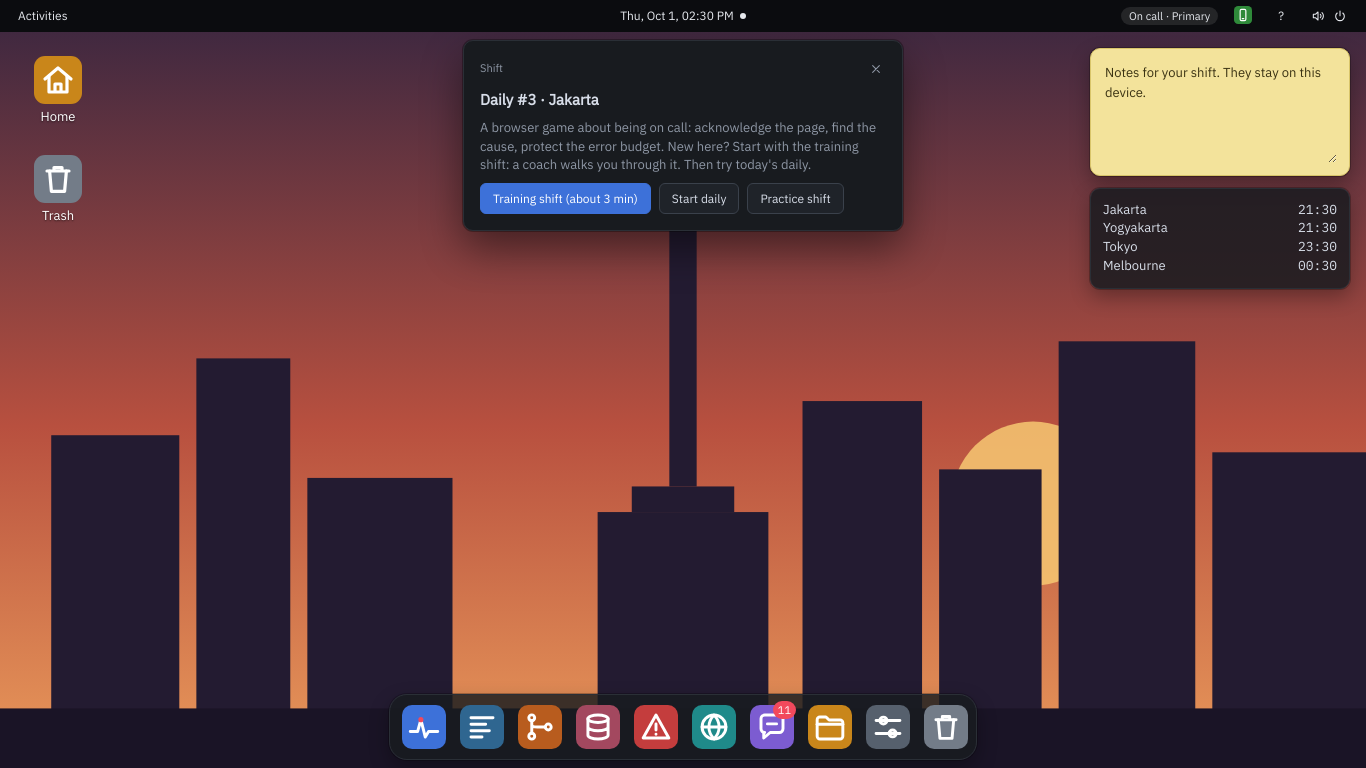
Scenario: Desktop › Start shift opens the Browser, and the page is a critical notification acknowledged with A
Click the button "Practice shift" at x=796, y=199, box [747,183,844,214]
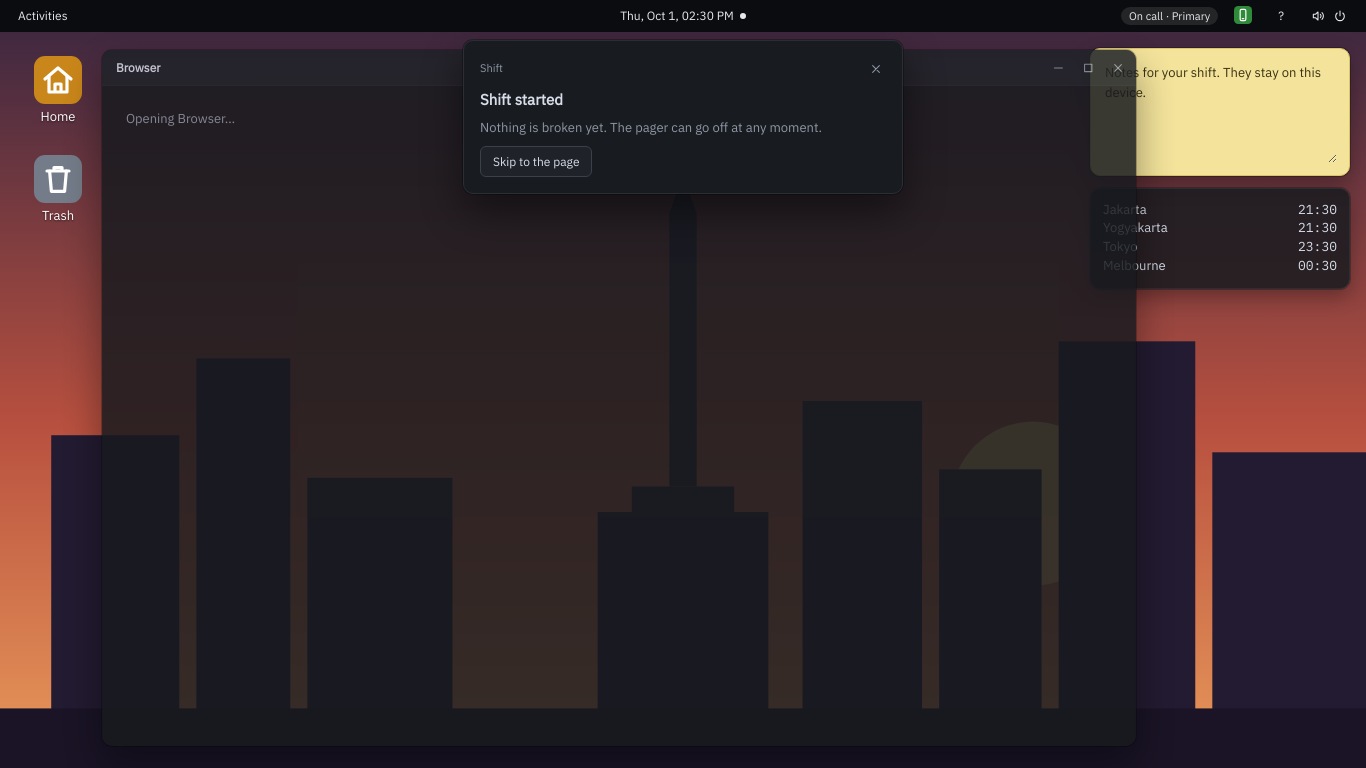
expect the element "Browser" is shown: met
Click the button "Skip to the page" at x=536, y=161, box [480,146,592,177]
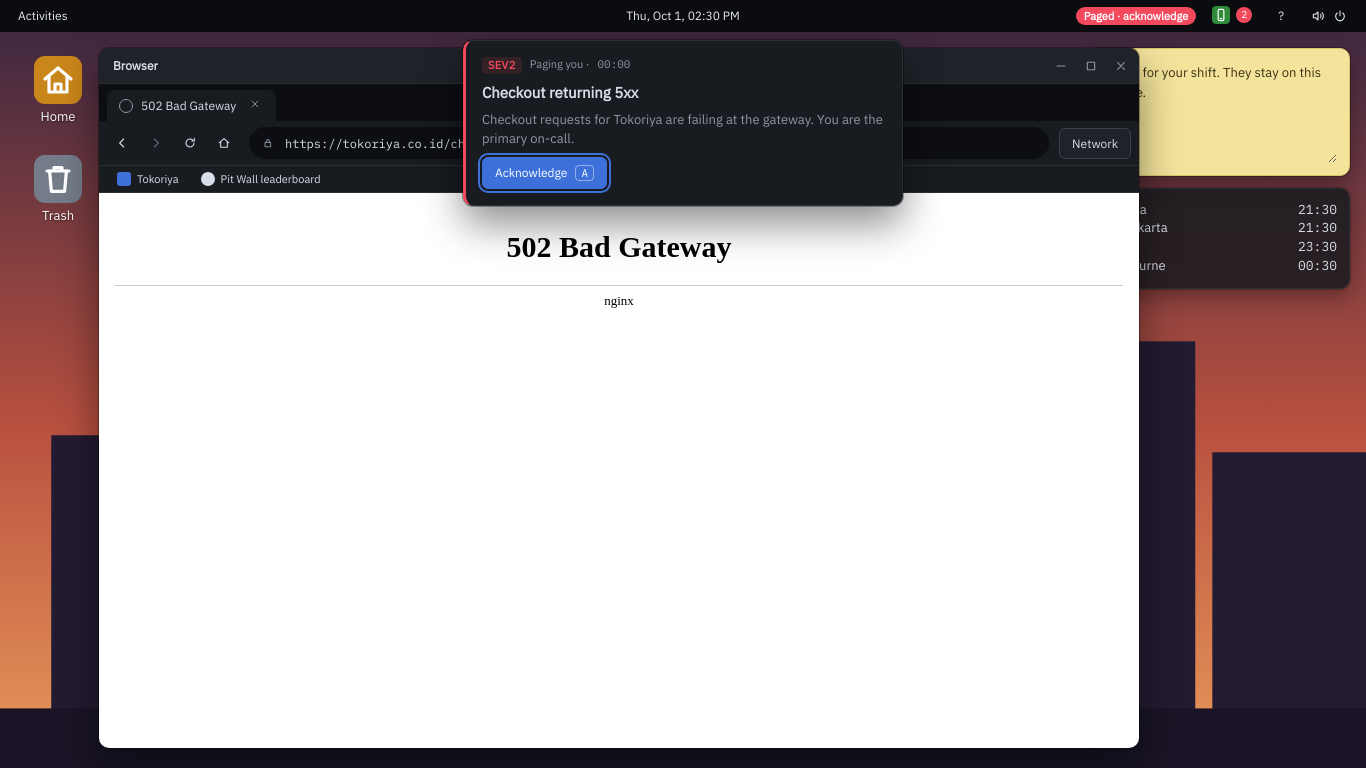
expect the dialog "Checkout returning 5xx" is shown: met, box [463,40,903,206]
Press a
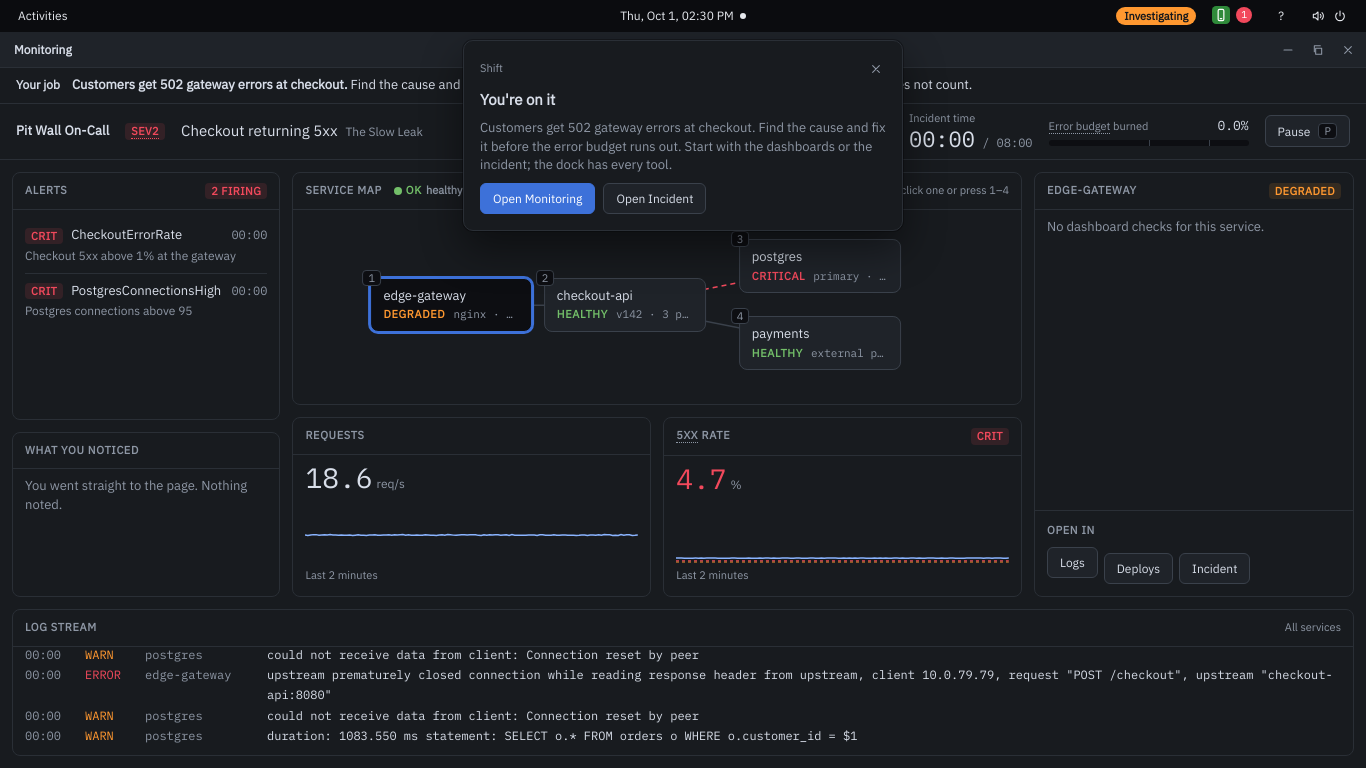
expect the heading "You're on it" is shown: met, box [480,90,555,109]
